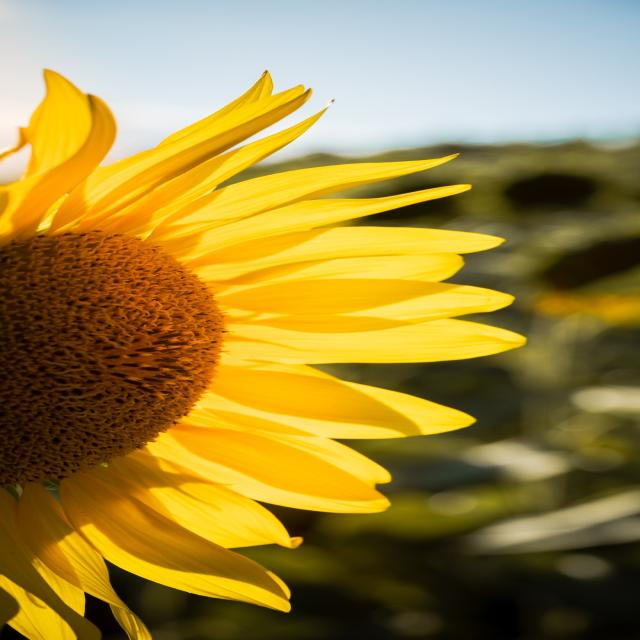sunflower: (2, 41, 542, 640)
